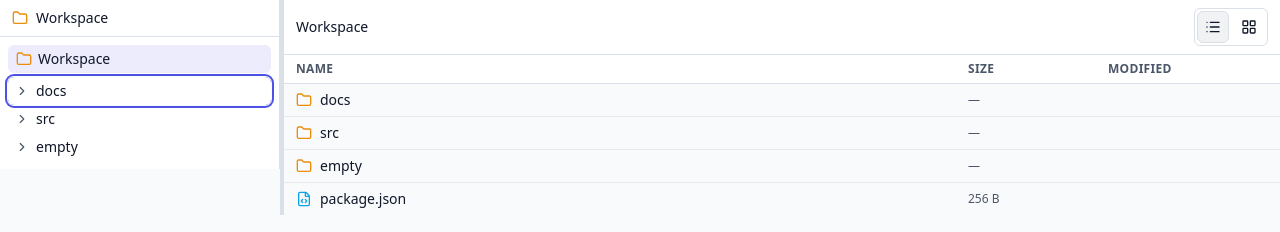
Test: FileExplorer › double-clicking a folder in the right pane navigates into it
Double-click the option "docs —" at [335, 100], box [284,84,1279,117]
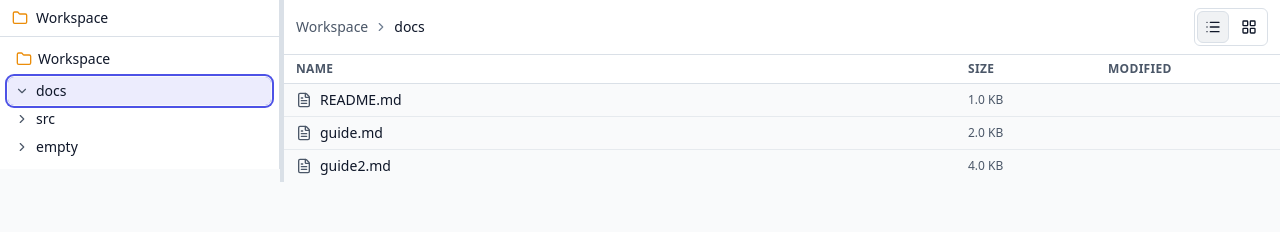
Result: the option "README.md 1.0 KB" is shown at [284,84,1279,117]
